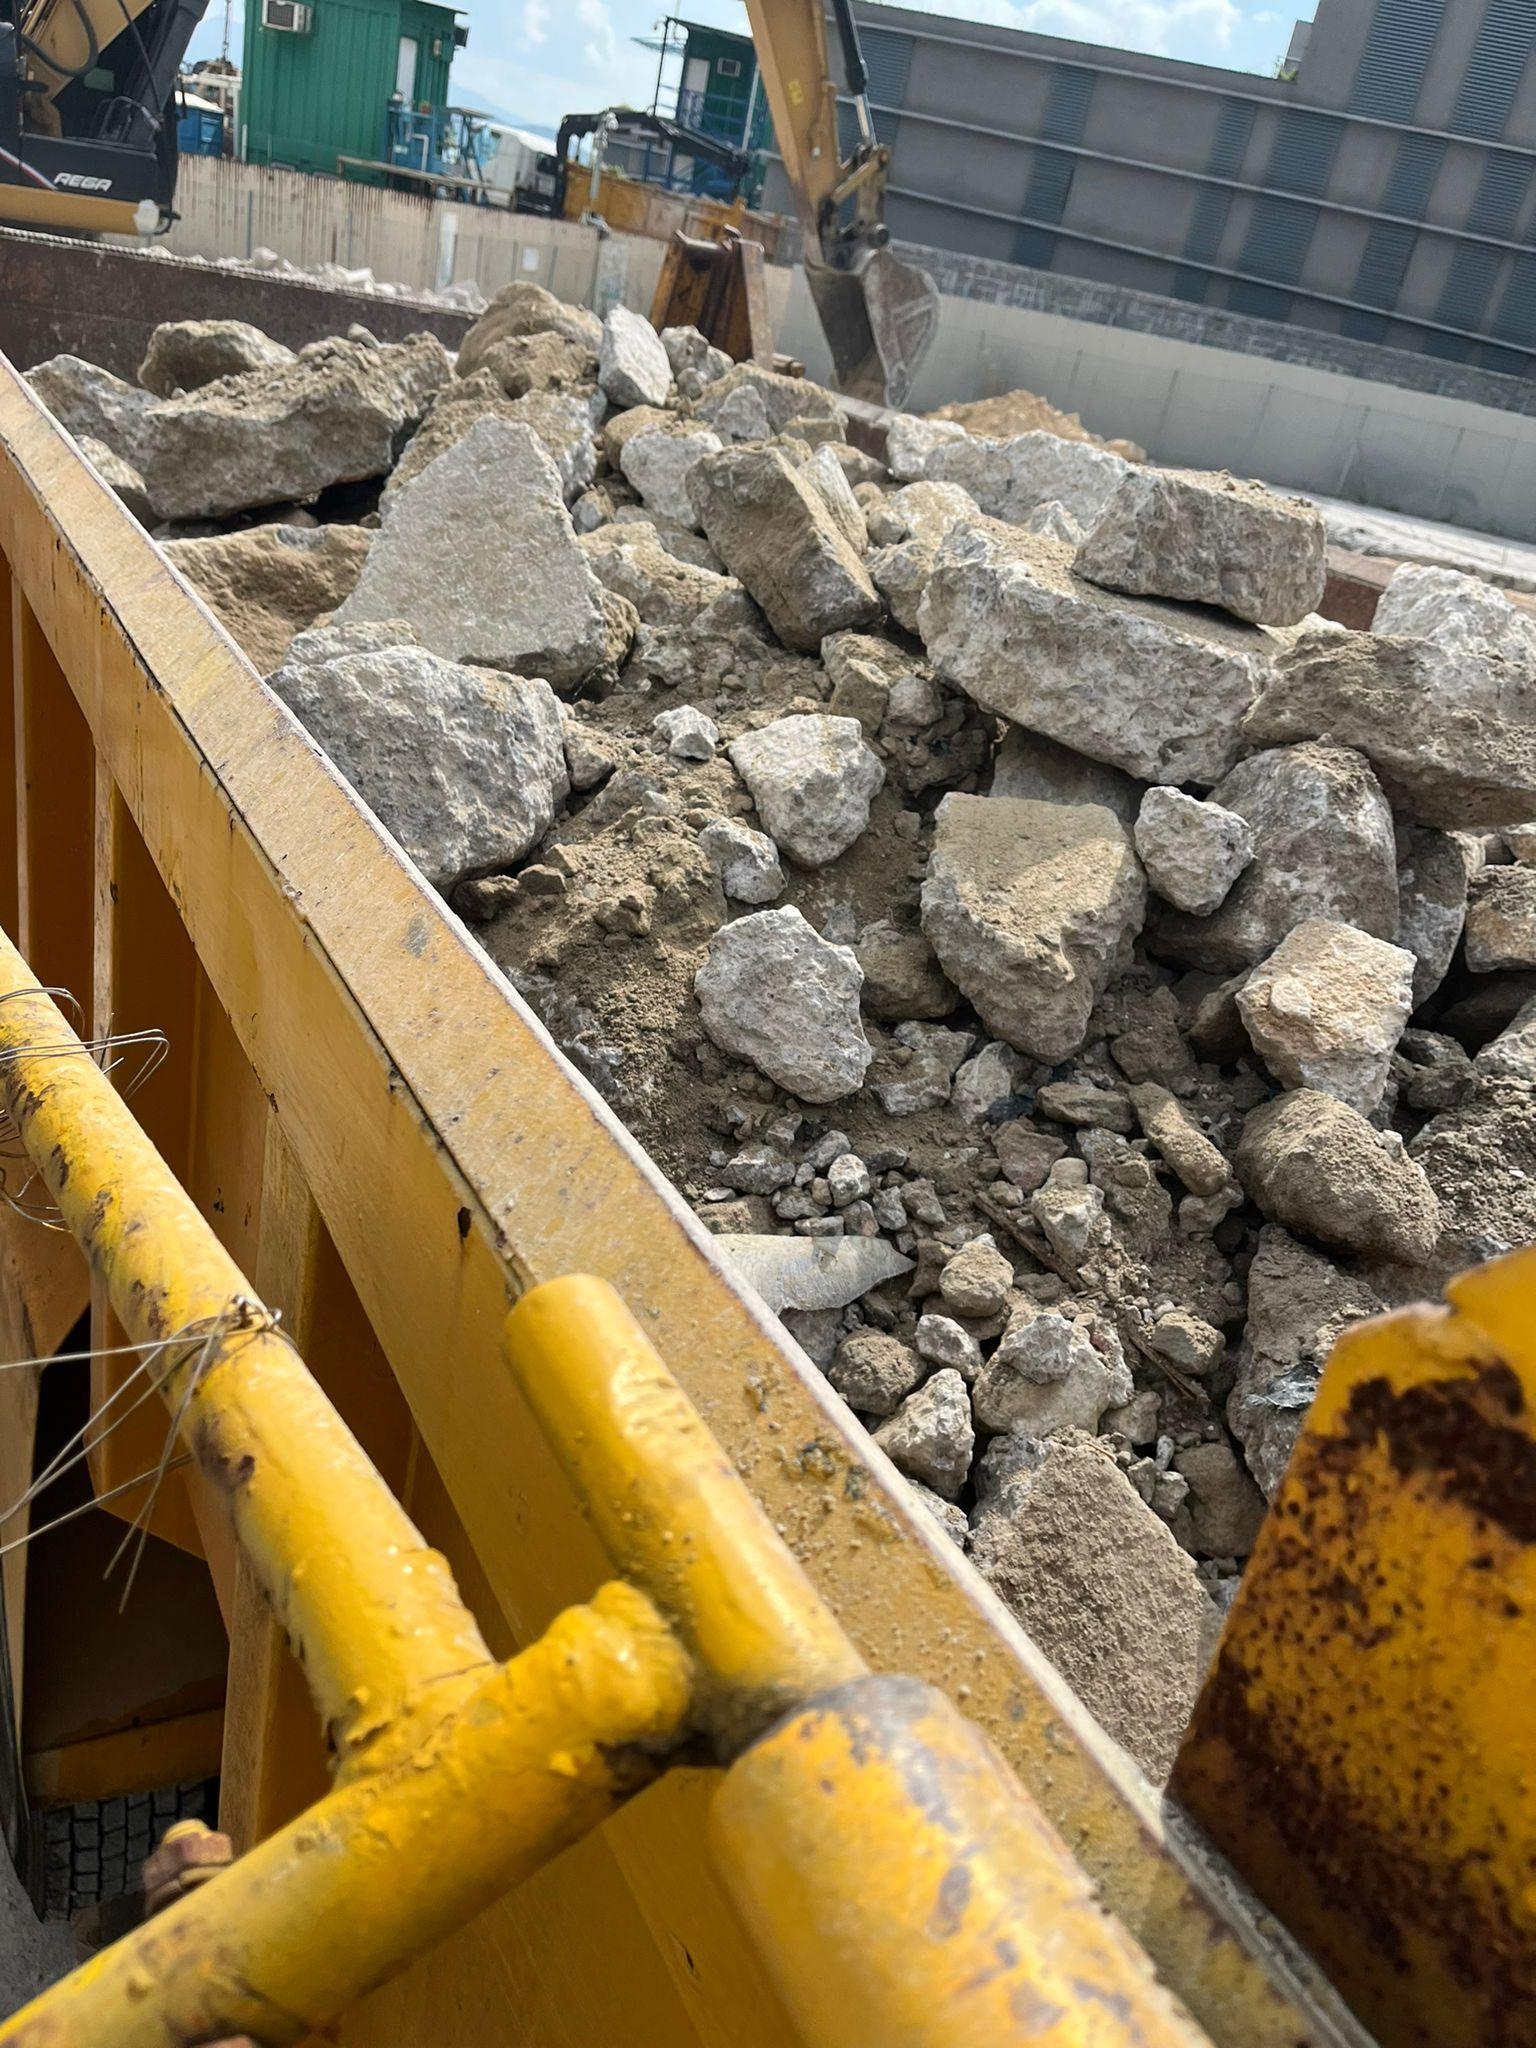dry: (47, 300, 1530, 1753)
